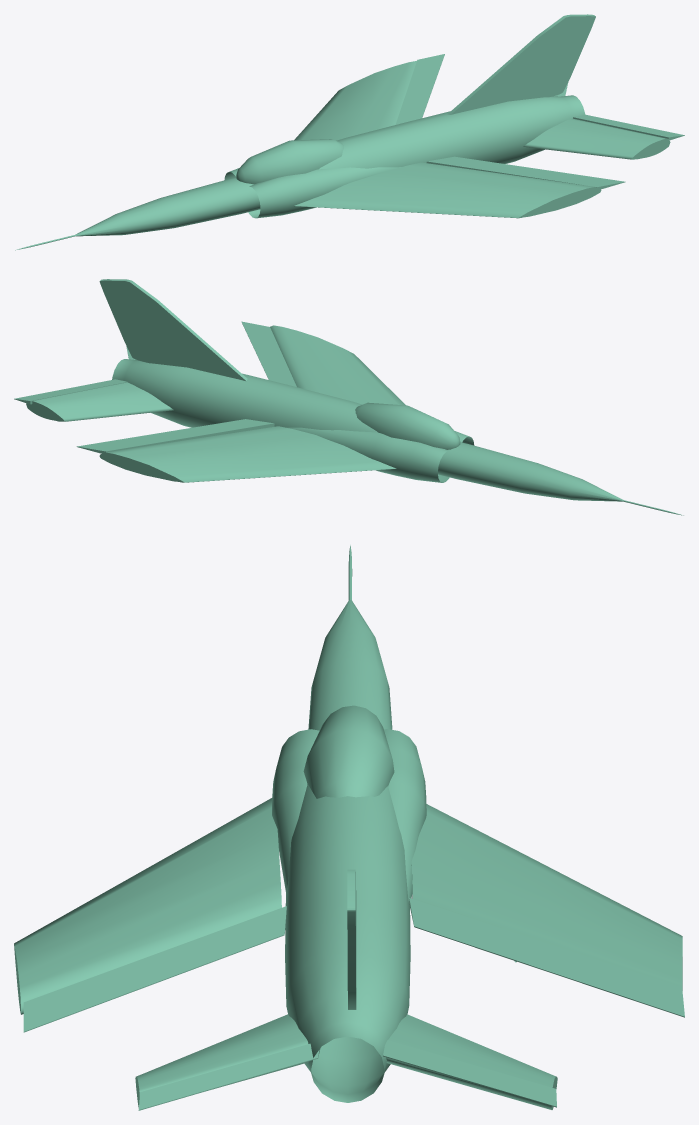
3 views of the same model, one above another, from view 1: azimuth 30°, elevation 25°; view 2: azimuth 150°, elevation 25°; view 3: azimuth 270°, elevation 25° (orthographic). The views are drawn at different scales.
Visible parts, largest first — view 1: uploads_files_3734573_jet+plane; view 2: uploads_files_3734573_jet+plane; view 3: uploads_files_3734573_jet+plane.
Boxes of the visible parts, <box> form: uploads_files_3734573_jet+plane: <box>15,14,684,250</box>; uploads_files_3734573_jet+plane: <box>14,279,683,515</box>; uploads_files_3734573_jet+plane: <box>14,545,684,1110</box>.
Size of the model in its own units: 20.45 by 4.09 by 10.06.
